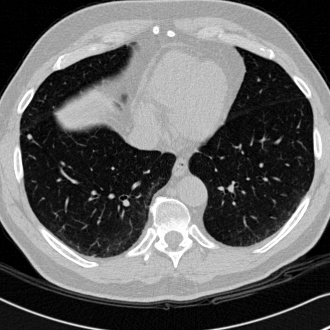PN: (26, 133, 32, 139)
